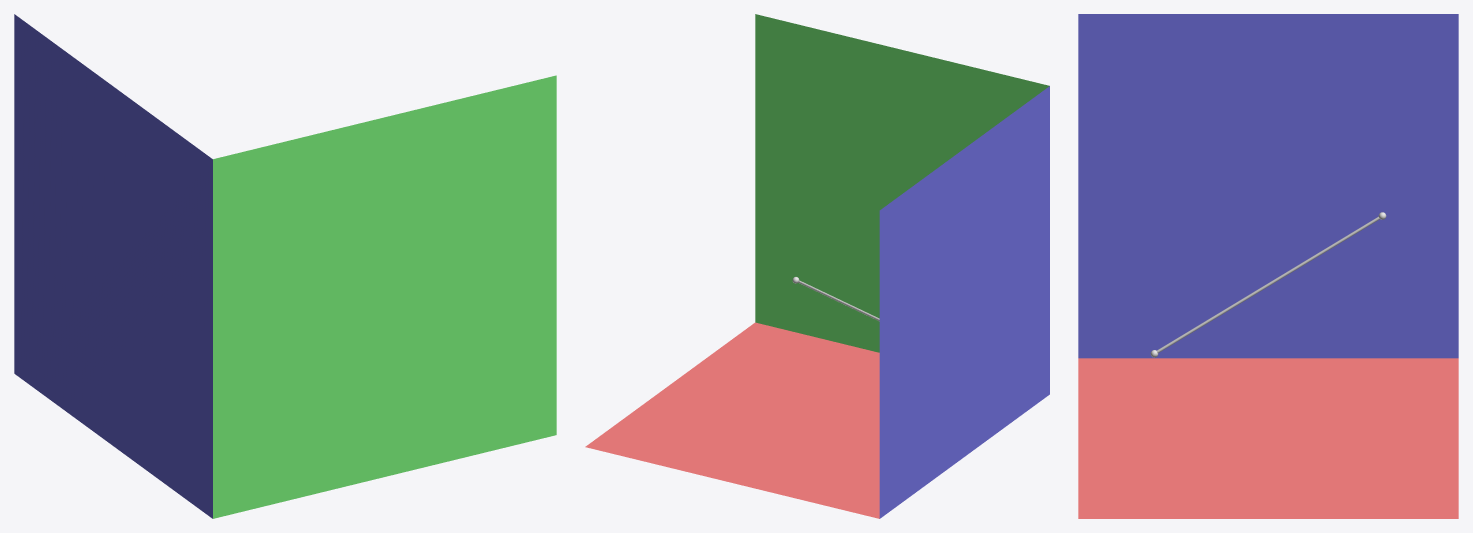
Rendered from otrezok.glb.
3 renders of one model, left to right at view 1: azimuth 30°, elevation 25°; view 2: azimuth 150°, elevation 25°; view 3: azimuth 270°, elevation 25°, orthographic. The views are drawn at different scales.
Parts seen in each view (by area): view 1: Plane.001, Plane.002; view 2: Plane.002, Plane.001, Plane; view 3: Plane.002, Plane, line.
Boxes of the visible parts, left/top/right/bottom form: Plane.001: left=213, top=75, right=556, bottom=518; Plane.002: left=14, top=14, right=212, bottom=518; Plane.002: left=879, top=86, right=1049, bottom=518; Plane.001: left=755, top=14, right=1049, bottom=352; Plane: left=585, top=322, right=879, bottom=518; Plane.002: left=1078, top=14, right=1458, bottom=358; Plane: left=1078, top=358, right=1458, bottom=518; line: left=1156, top=217, right=1379, bottom=352.
Size of the model in its own units: 5 by 5 by 5.
